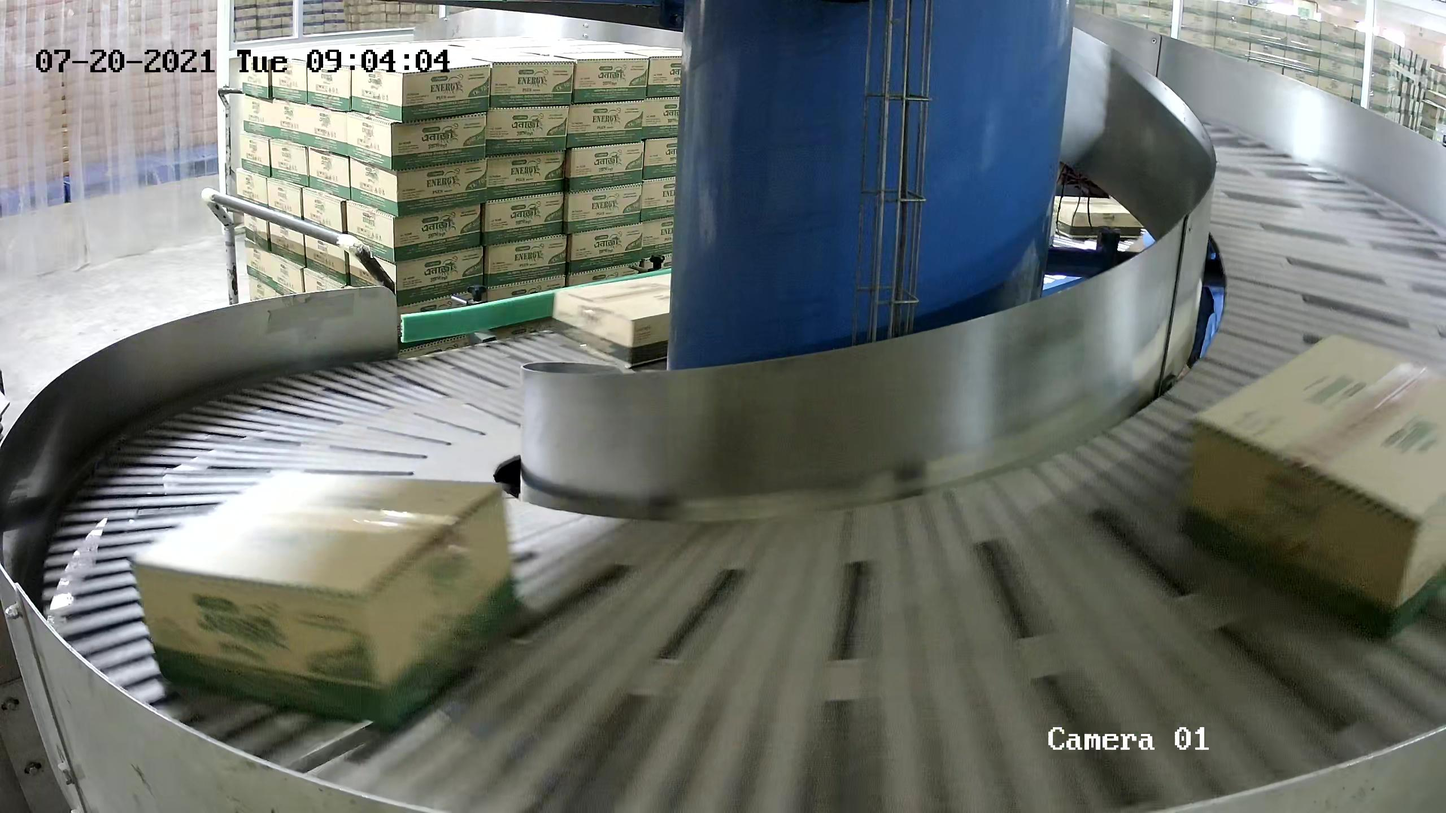Box: (126, 466, 526, 729), (1183, 330, 1446, 644), (550, 272, 672, 368)
